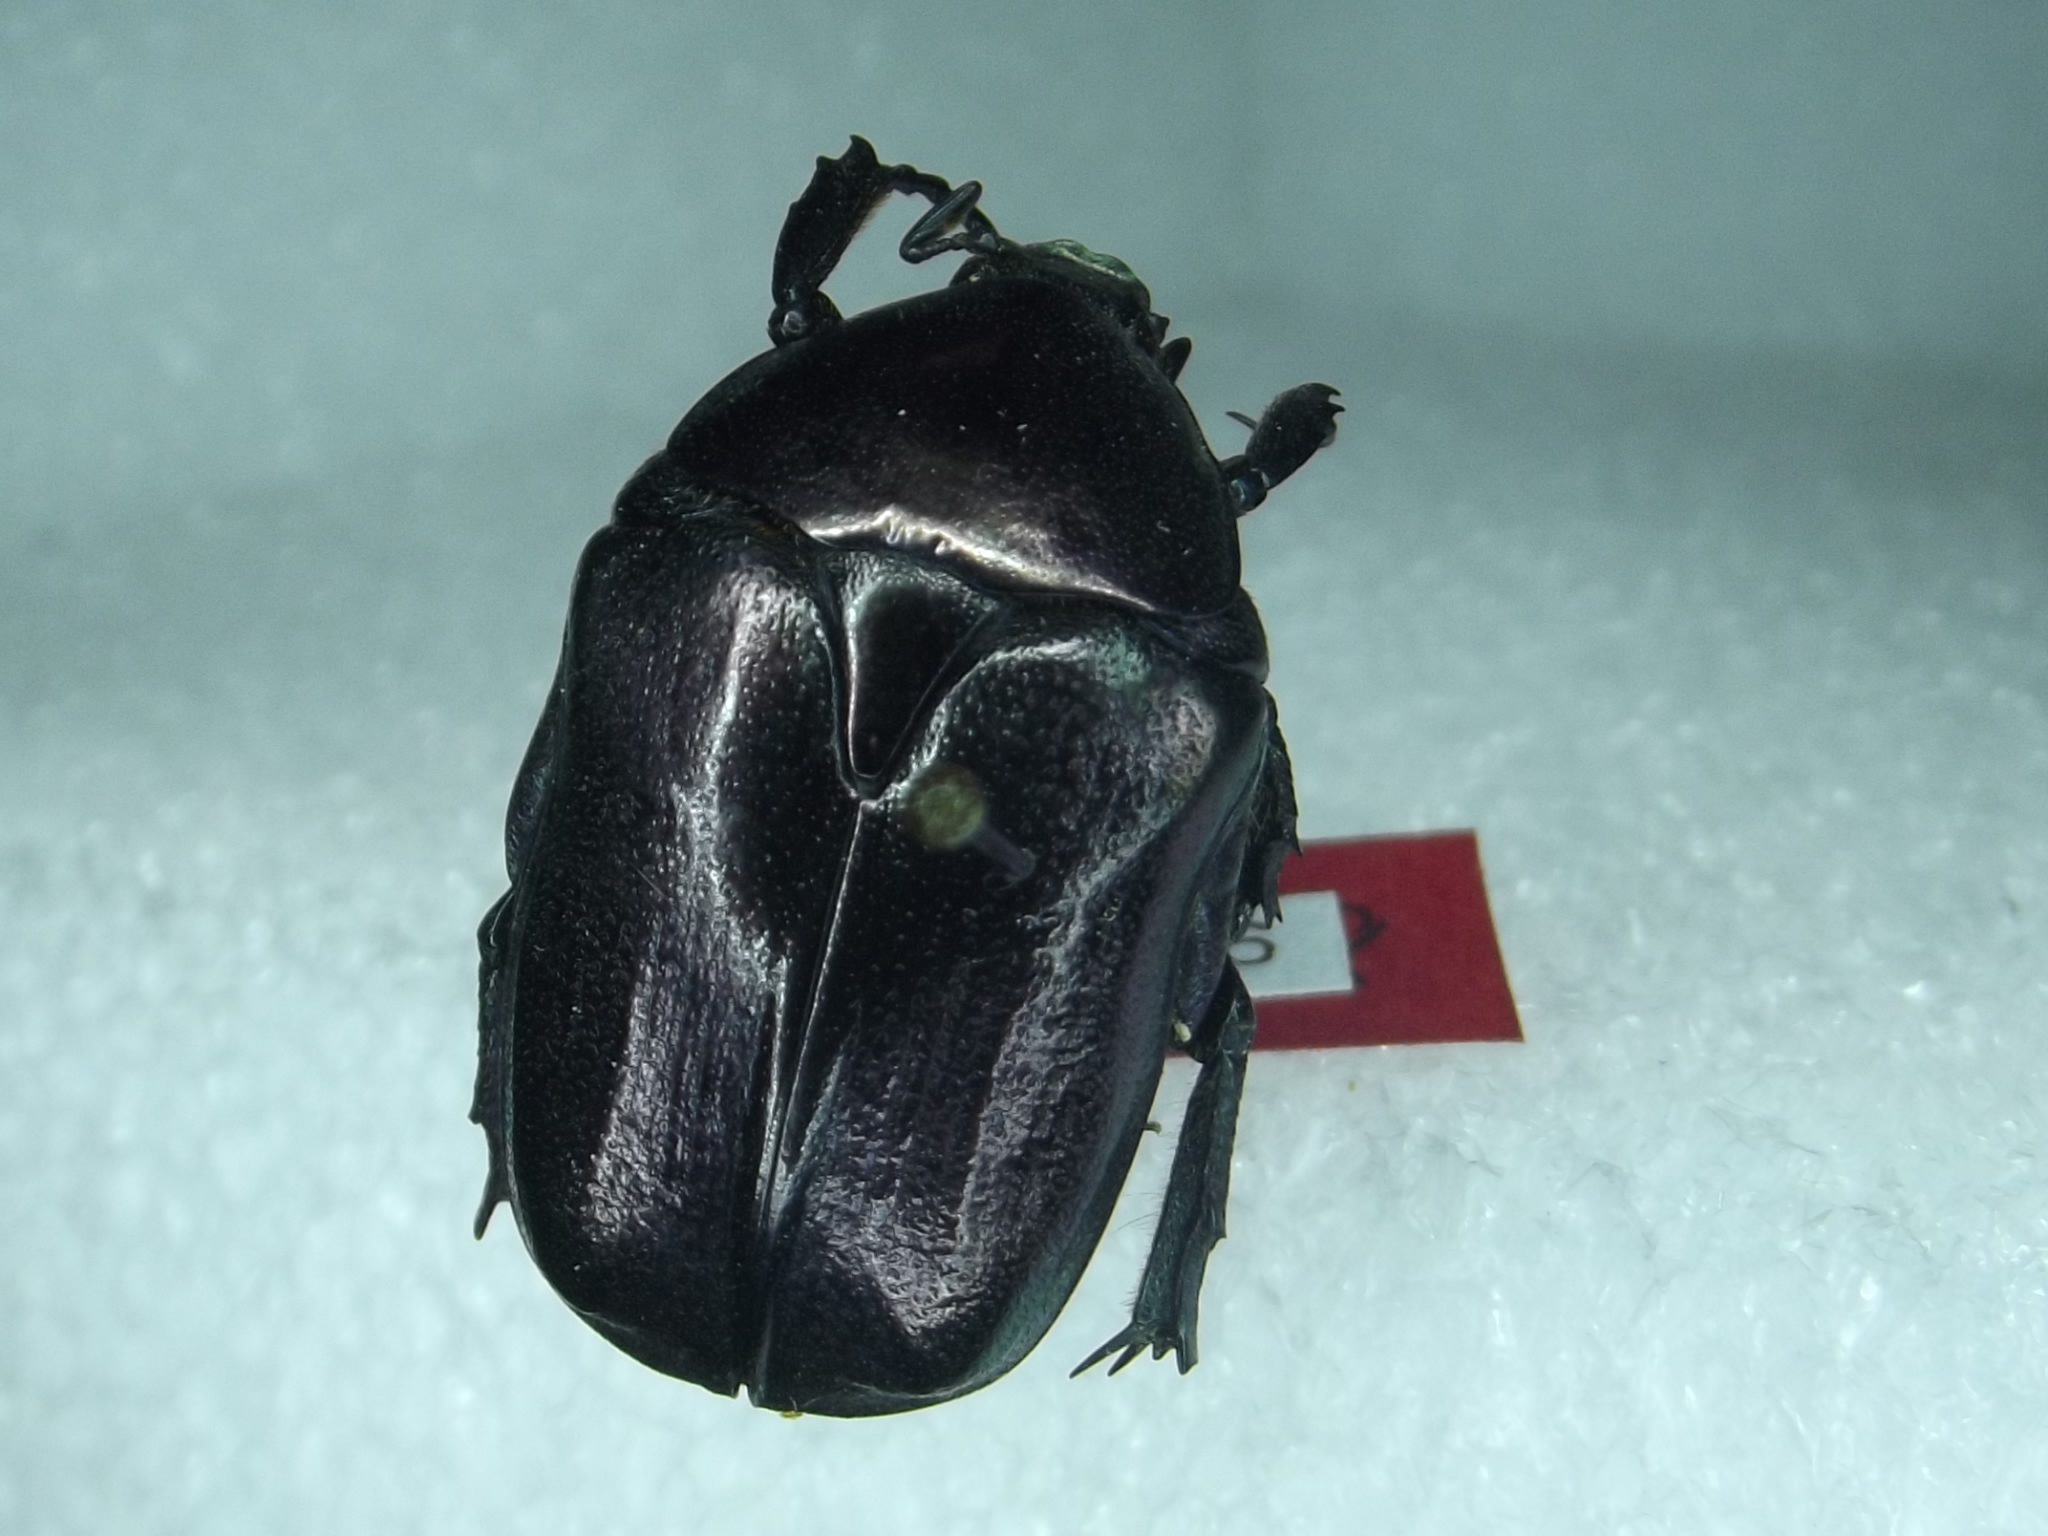Protaetia_besucheti: (429, 119, 1358, 1426)
